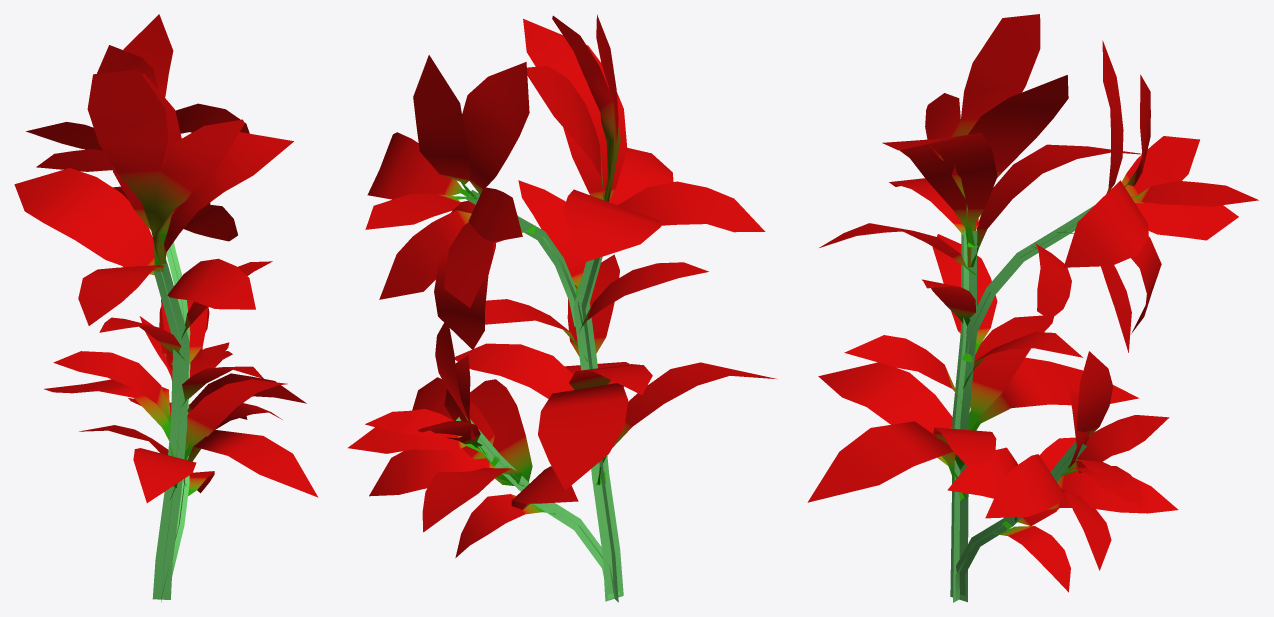
The model's file is Spotted Laurel_LOD1_Var4_sfDik.fbx.
3 renders of one model, left to right at view 1: azimuth 30°, elevation 25°; view 2: azimuth 150°, elevation 25°; view 3: azimuth 270°, elevation 25°, orthographic. The views are drawn at different scales.
Visible parts, largest first — view 1: _2d26_Var4_LOD1; view 2: _2d26_Var4_LOD1; view 3: _2d26_Var4_LOD1.
Boxes of the visible parts, x1,y1,x2,y2 form: _2d26_Var4_LOD1: [14, 14, 318, 602]; _2d26_Var4_LOD1: [348, 14, 777, 602]; _2d26_Var4_LOD1: [807, 14, 1258, 602].
Size of the model in its own units: 31.64 by 60.58 by 42.82.
